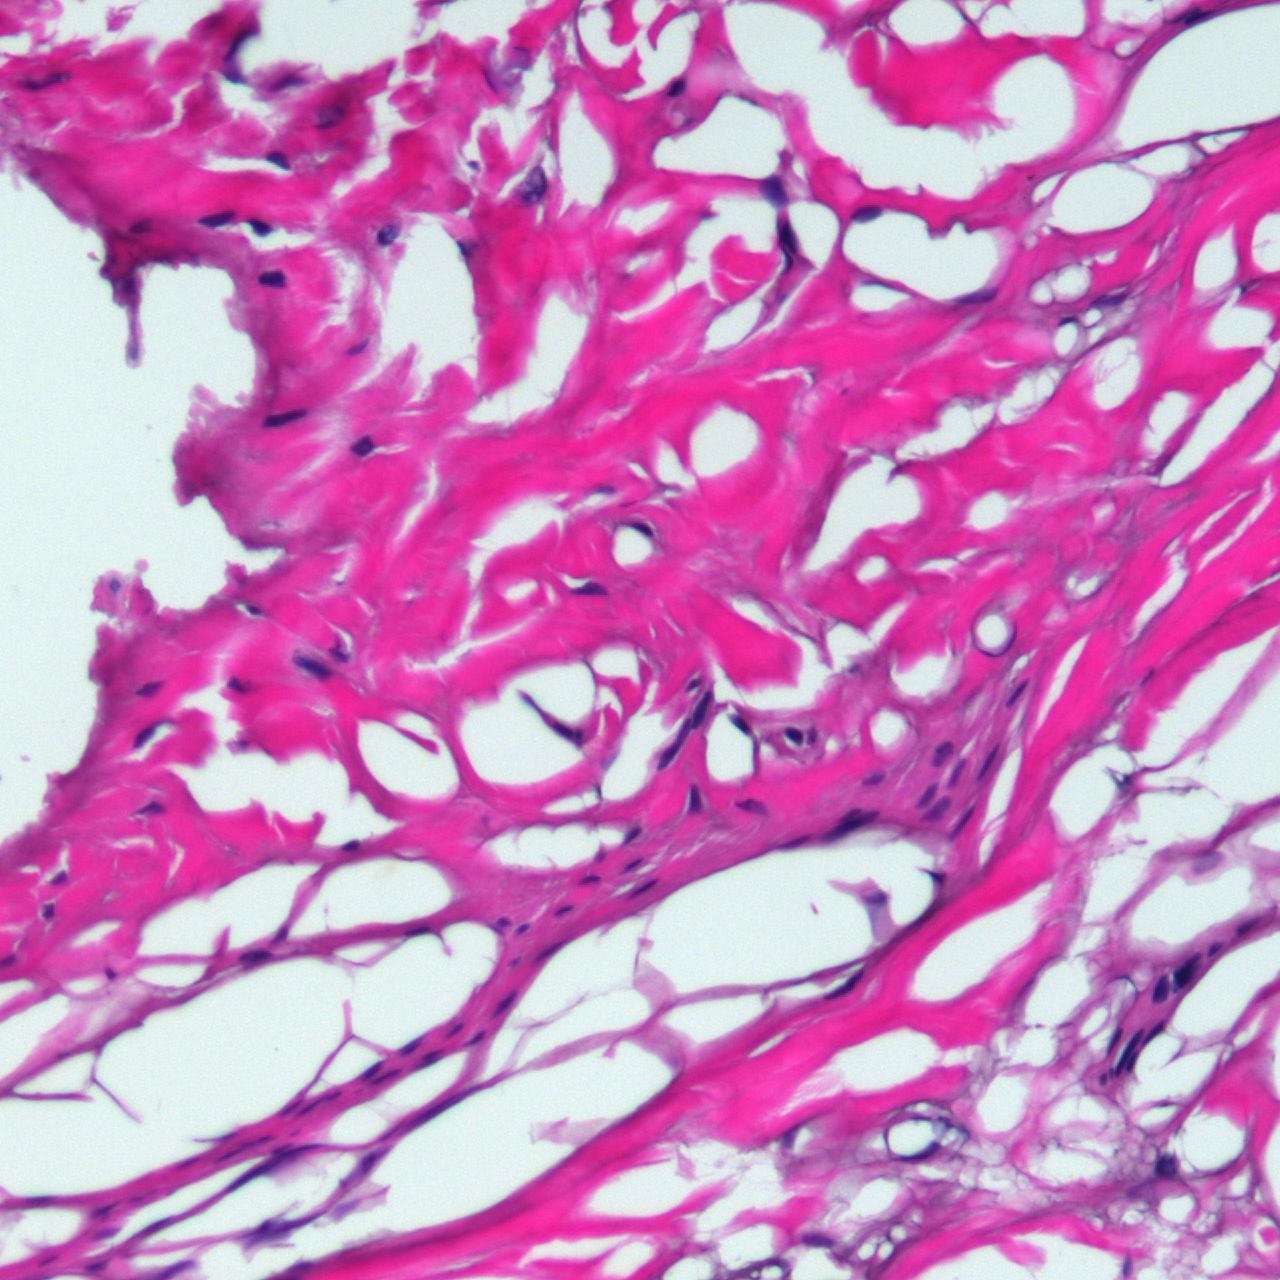nucleus-HE: (652, 687, 721, 771), (290, 646, 336, 687), (821, 967, 867, 1005), (257, 400, 308, 434), (1167, 948, 1206, 990), (1110, 1029, 1144, 1075), (774, 219, 804, 267), (942, 803, 978, 843), (222, 23, 256, 64), (920, 792, 955, 828), (268, 68, 309, 96), (550, 719, 588, 748), (760, 172, 789, 211), (196, 207, 237, 233), (263, 143, 297, 173), (1179, 0, 1214, 29), (926, 737, 956, 770), (849, 200, 883, 227), (1002, 678, 1032, 708), (325, 638, 354, 667), (1139, 1019, 1167, 1049), (244, 215, 275, 241), (130, 721, 159, 749), (661, 75, 690, 103), (976, 744, 1000, 778), (944, 756, 969, 787), (128, 211, 158, 237), (132, 676, 165, 700), (629, 515, 658, 542), (915, 779, 940, 810), (952, 287, 998, 304), (629, 876, 658, 900), (729, 713, 756, 737), (348, 433, 375, 457), (1103, 1026, 1125, 1055), (1155, 1152, 1178, 1179), (241, 946, 271, 965), (375, 222, 397, 246), (568, 581, 610, 594), (258, 270, 286, 288), (1089, 293, 1126, 307), (1233, 915, 1257, 938), (783, 723, 806, 745), (1151, 974, 1169, 1003), (860, 769, 885, 789), (416, 1049, 441, 1069), (399, 1037, 423, 1057), (222, 64, 244, 86), (495, 992, 516, 1013), (48, 869, 70, 888), (403, 922, 431, 938), (226, 675, 247, 695), (1203, 937, 1223, 956), (136, 799, 163, 813), (688, 782, 700, 813), (540, 940, 561, 958), (1054, 313, 1077, 328), (622, 856, 644, 872), (376, 1068, 399, 1083), (362, 1062, 381, 1080), (467, 1030, 486, 1047), (553, 903, 573, 917), (102, 964, 117, 981), (244, 604, 264, 615), (87, 1259, 105, 1271), (41, 903, 55, 918), (515, 921, 529, 935), (342, 839, 358, 851), (581, 874, 599, 883)
